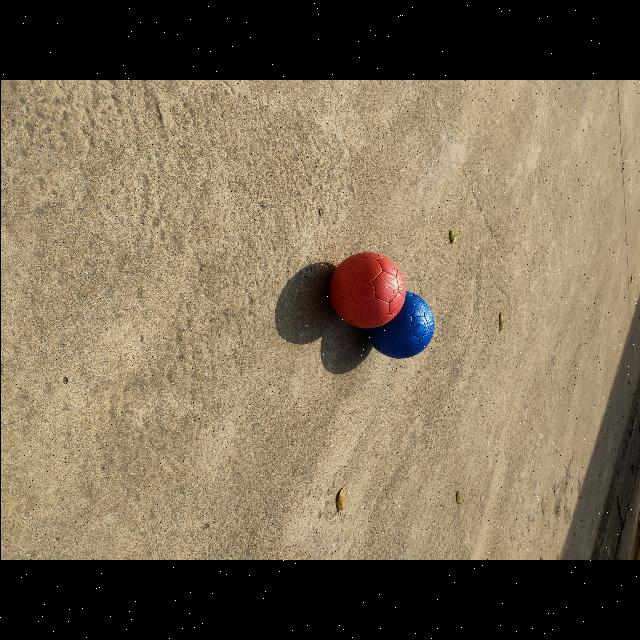B: (365, 291, 434, 359)
R: (328, 252, 405, 329)
